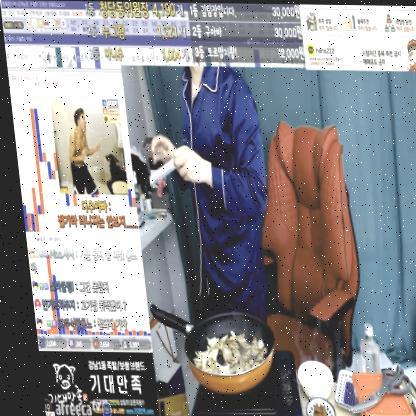donation: (41, 97, 135, 230)
streamer: (139, 65, 275, 322)
